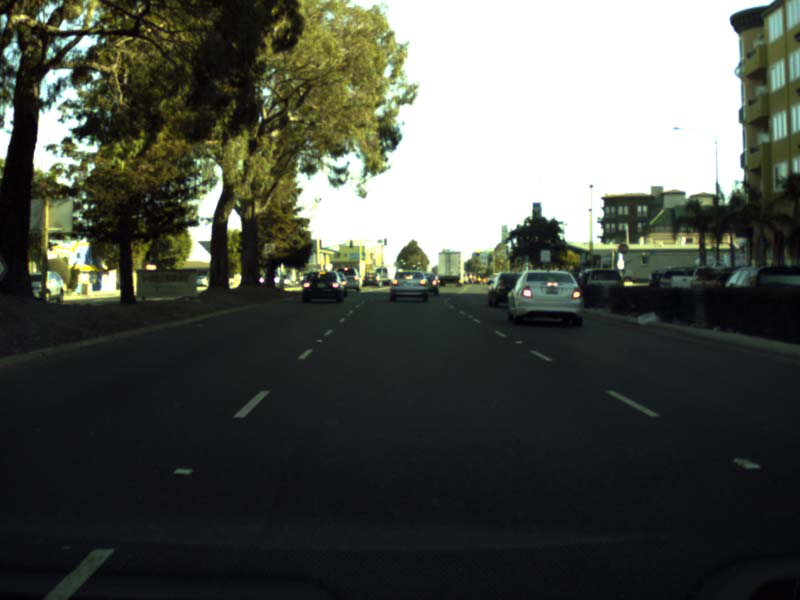Red: (475, 249, 480, 256)
